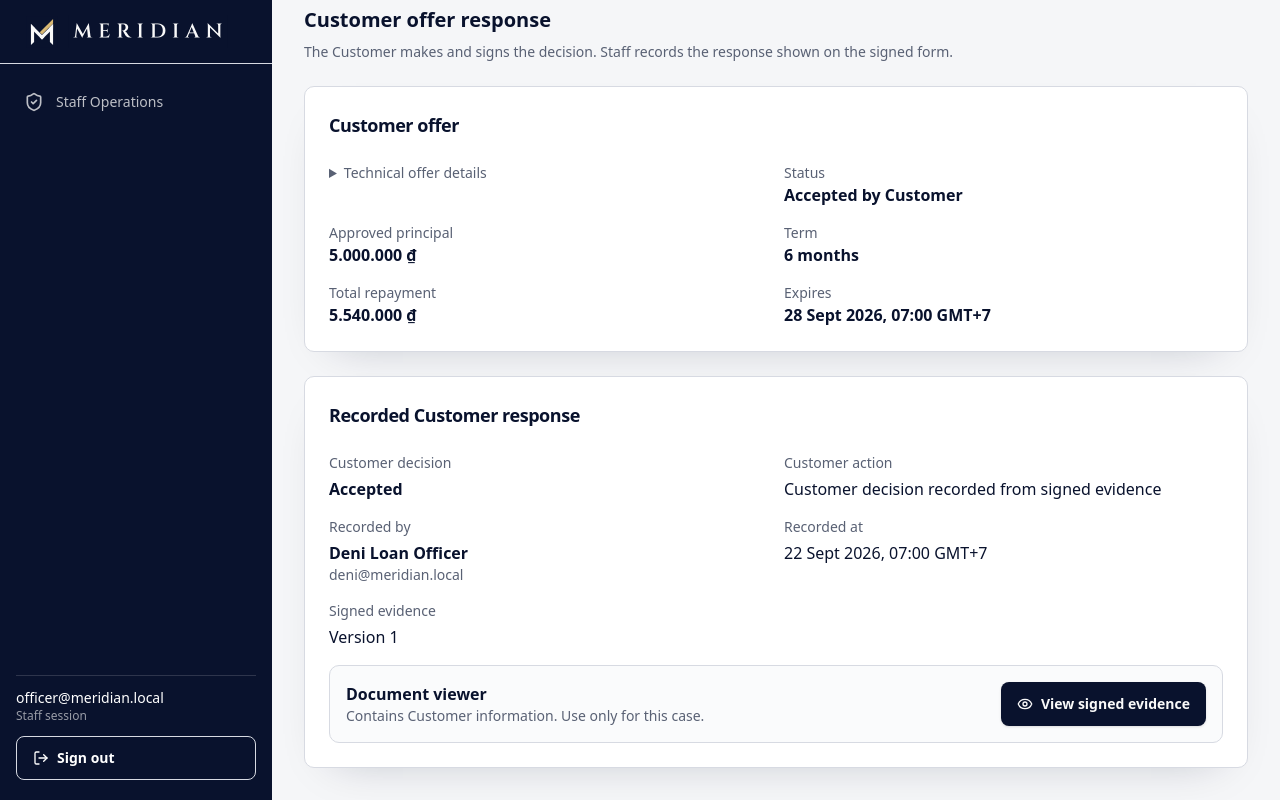
Test: Staff-assisted offer response workspace › shows a completed ACCEPT with safe wording and a separate Staff recorder
(page scrolled)
Expected: the heading "Recorded Customer response" is shown, [329,403,580,427]
Expected: the text "Customer decision recorded from signed evidence" is shown, [784,477,1223,501]
Click the button "View signed evidence".
click(1103, 704)  # box [1001,682,1206,726]
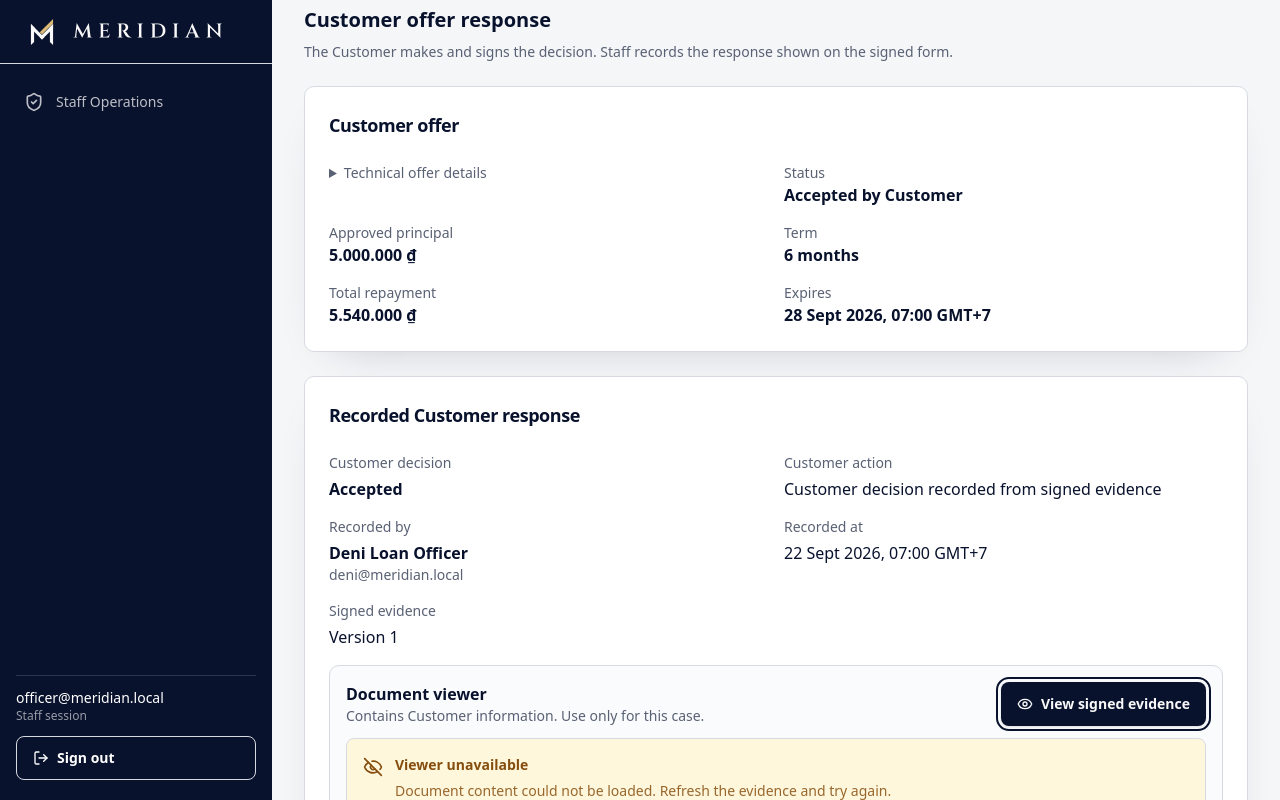
Expected: the heading "Viewer unavailable" is shown, [395,755,528,774]
